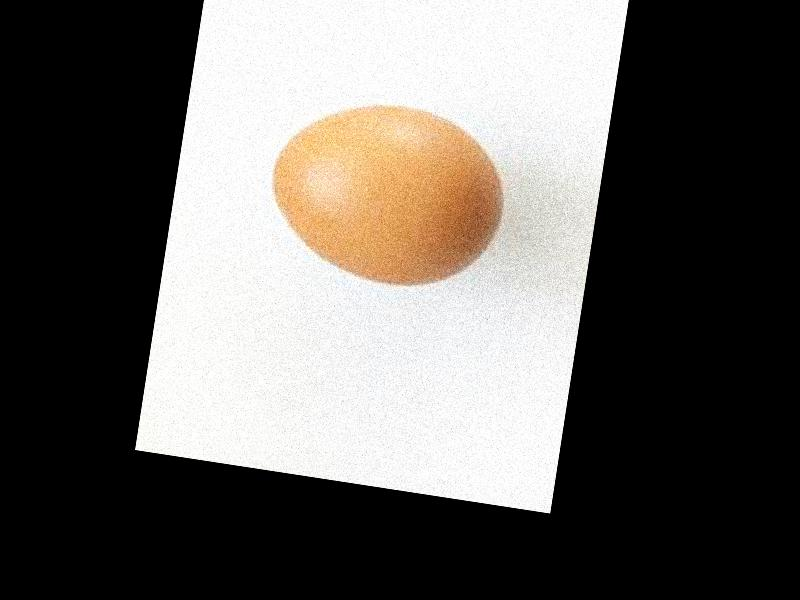Eggs: (255, 90, 517, 301)
